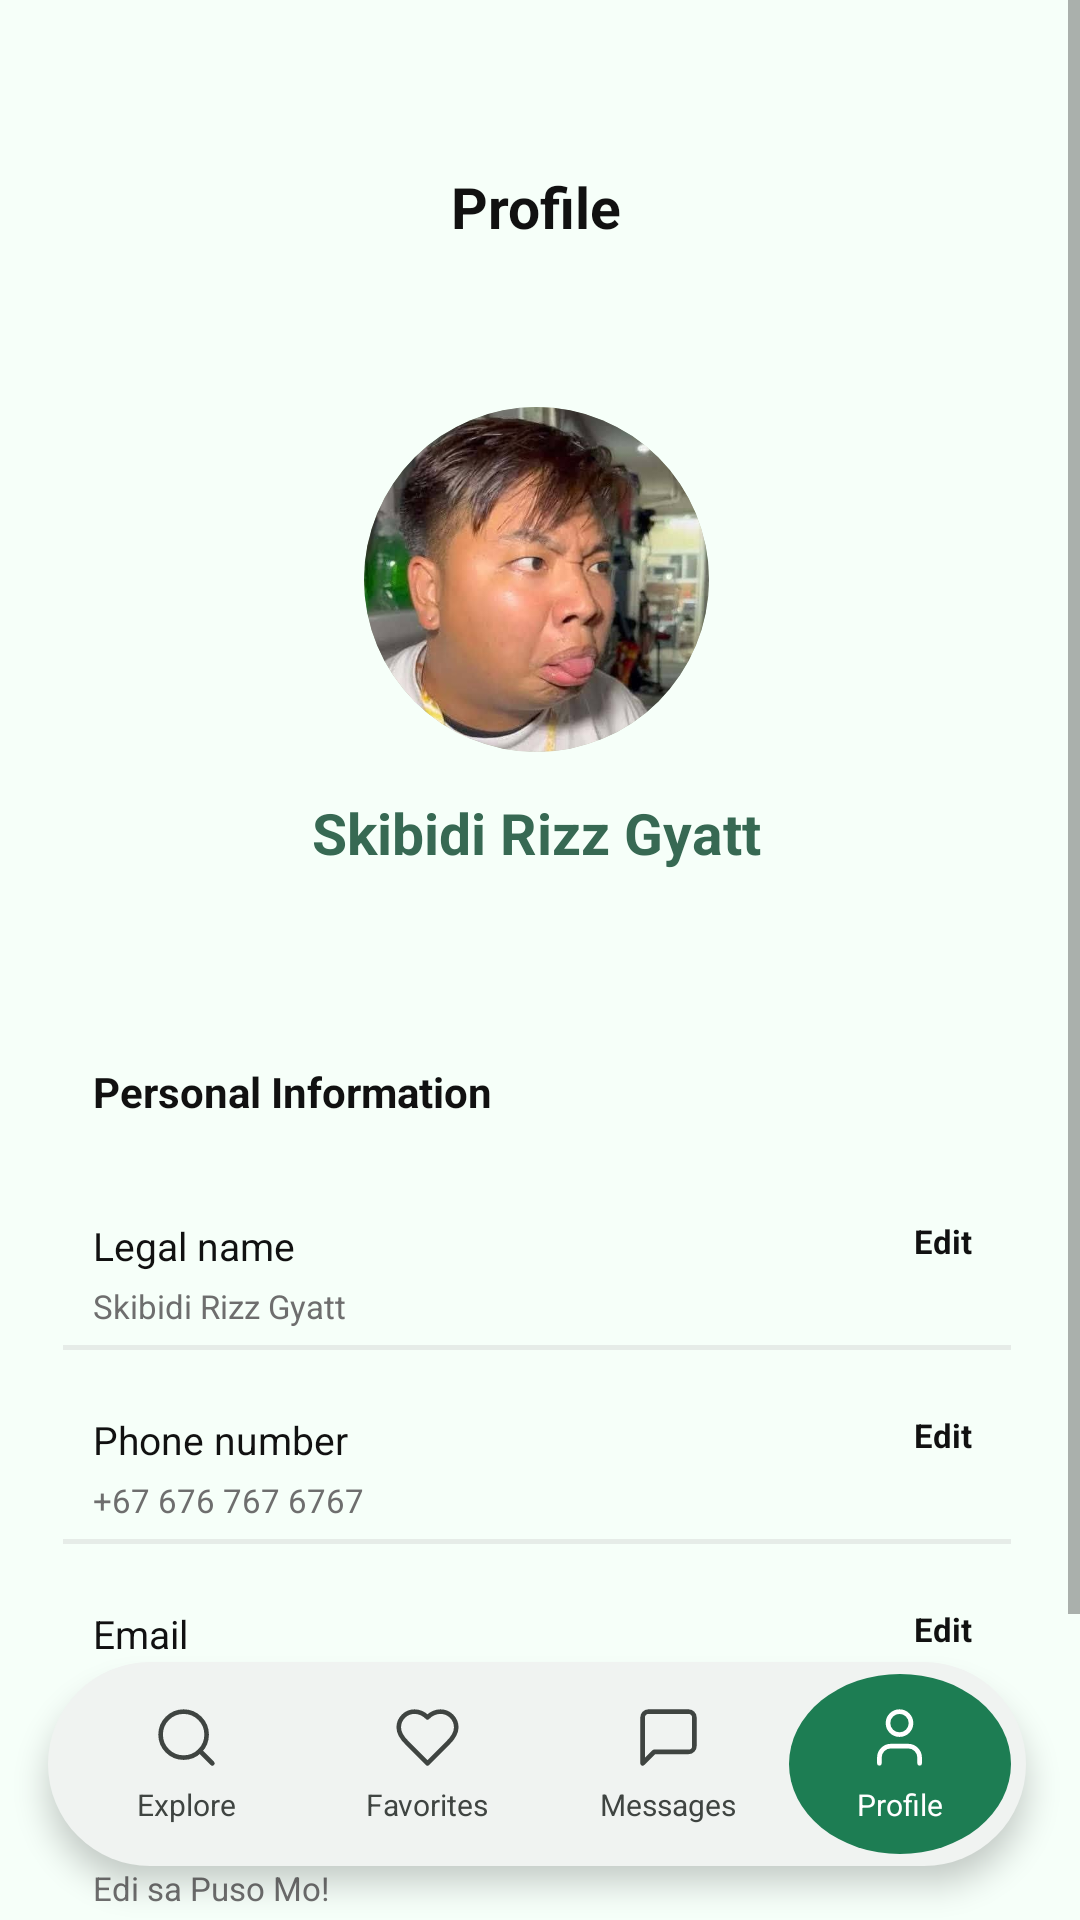

Where to tap for icons on this 1080x1920 app screen, as point (x, y):
Profile photo: point (536, 579)
